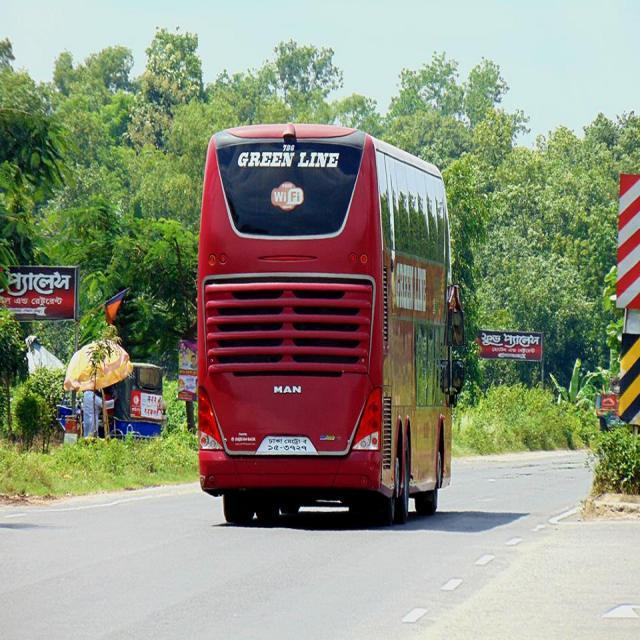Double decker: (190, 121, 457, 542)
